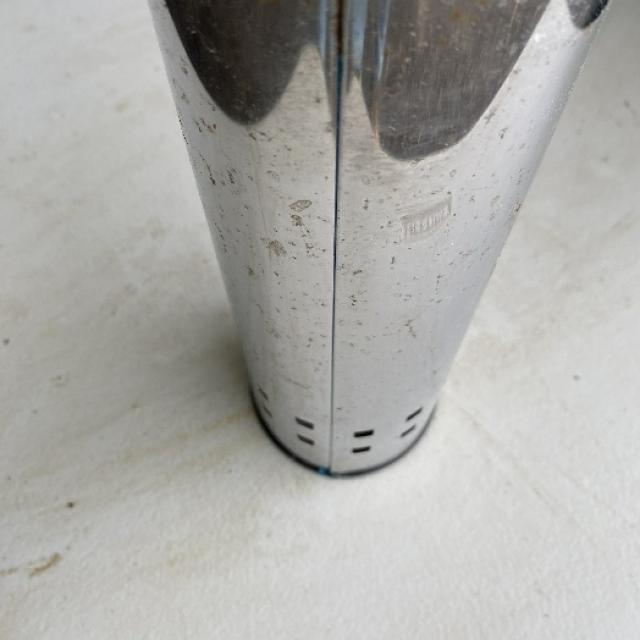inorganic: (150, 2, 620, 478)
